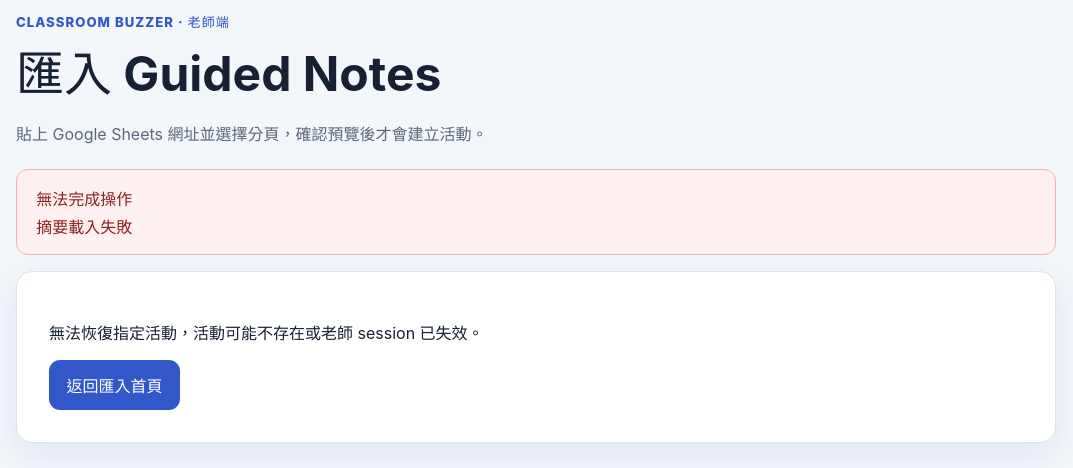
Scenario: 老師 Guided Notes 匯入介面 › 首頁摘要失敗或格式無效時可重試，且不顯示未確認連結
Expected: the message "無法完成操作 摘要載入失敗" is shown, [16,169,1056,255]
Step 1. Click the button "返回匯入首頁" → (115, 385), box [49,360,180,410]
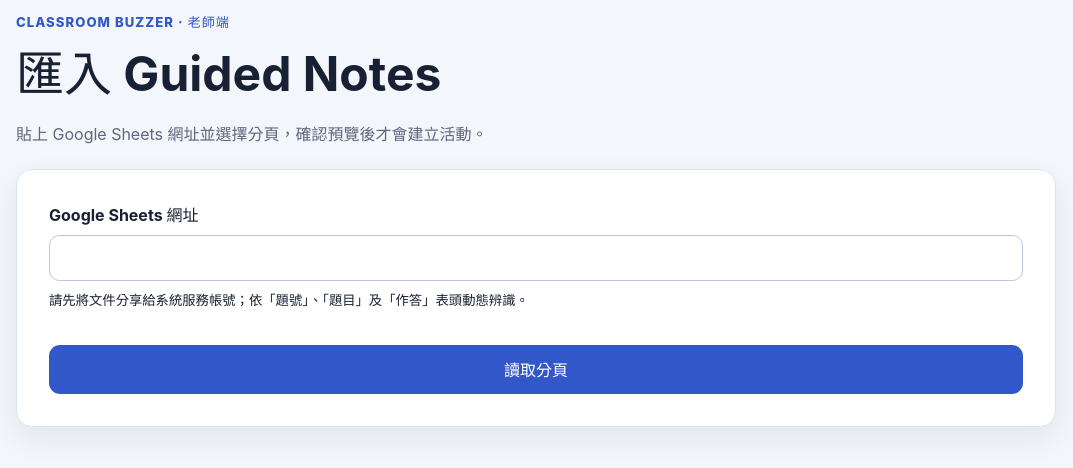
Expected: the button "讀取分頁" is enabled, [49,345,1023,394]
Result: the message "無法完成操作 摘要載入失敗" is gone
